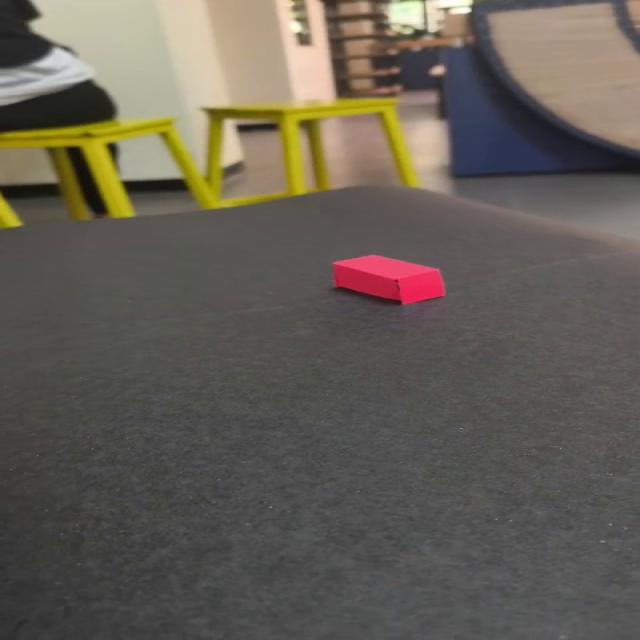red block: (331, 253, 445, 304)
